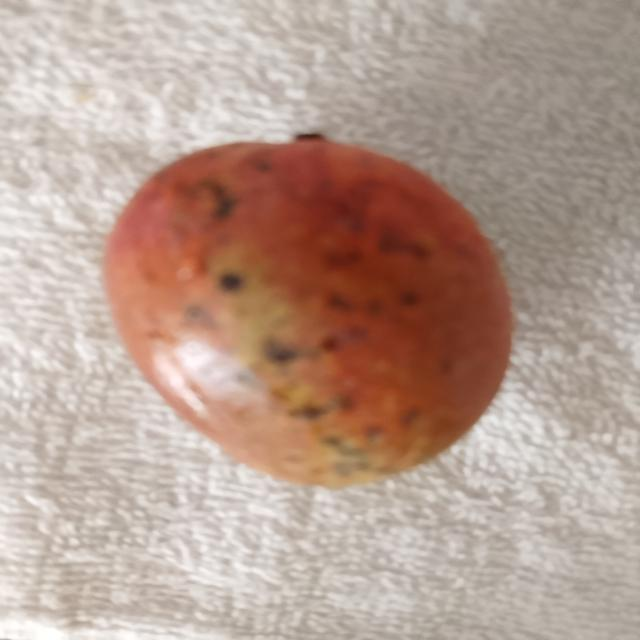mango: (98, 129, 519, 490)
